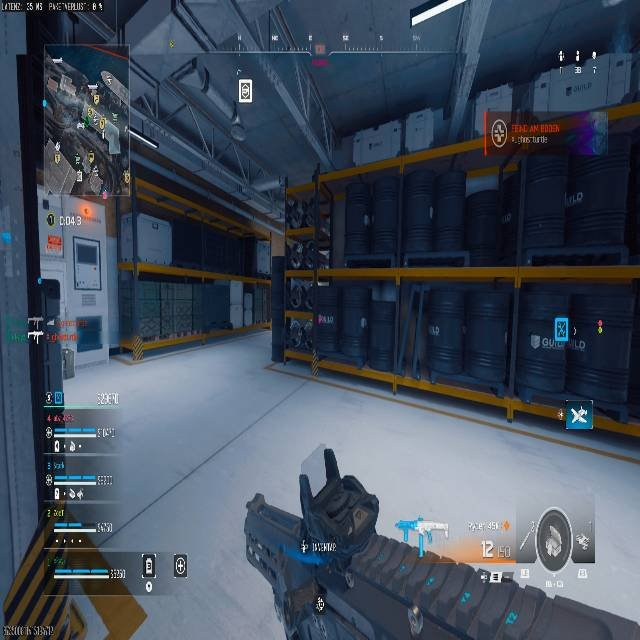player: (561, 343, 586, 394)
